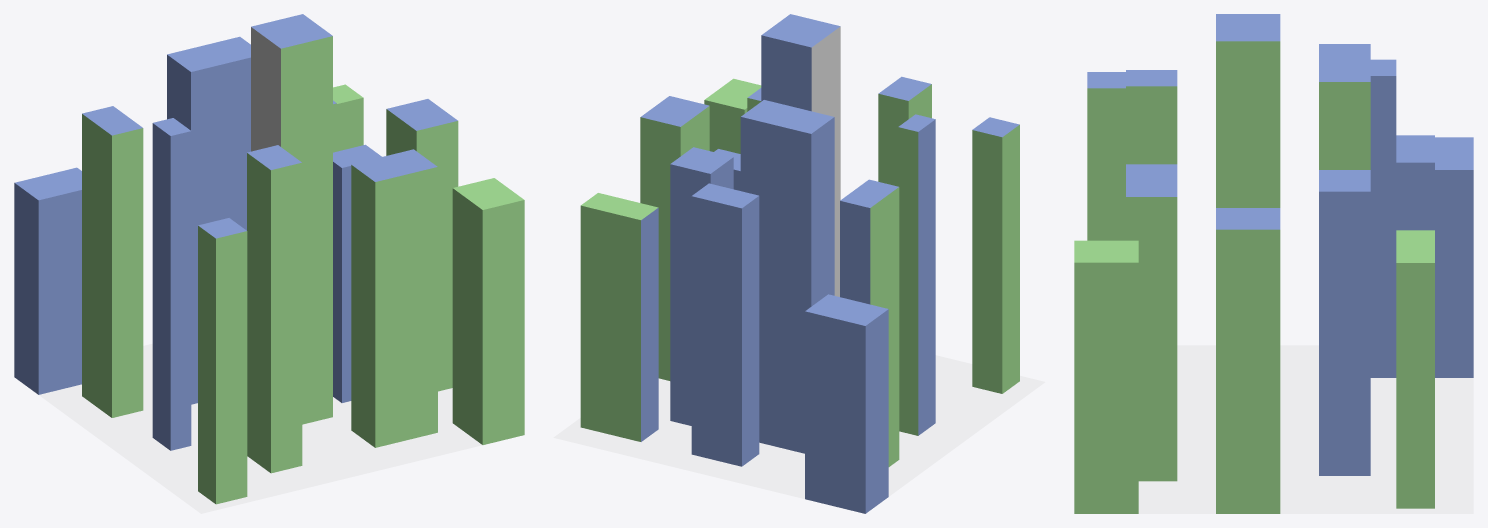
The picture shows the model from 3 angles, left to right: view 1: azimuth 30°, elevation 25°; view 2: azimuth 150°, elevation 25°; view 3: azimuth 270°, elevation 25°; orthographic projection. The views are drawn at different scales.
Visible parts, largest first — view 1: scene; view 2: scene; view 3: scene.
Part boxes in pixels (x1,y1,x2,y2): scene: [14, 14, 524, 513]; scene: [554, 14, 1044, 513]; scene: [1074, 14, 1473, 513].
Bounding box in the file's own units: 40 × 45.05 × 40.
